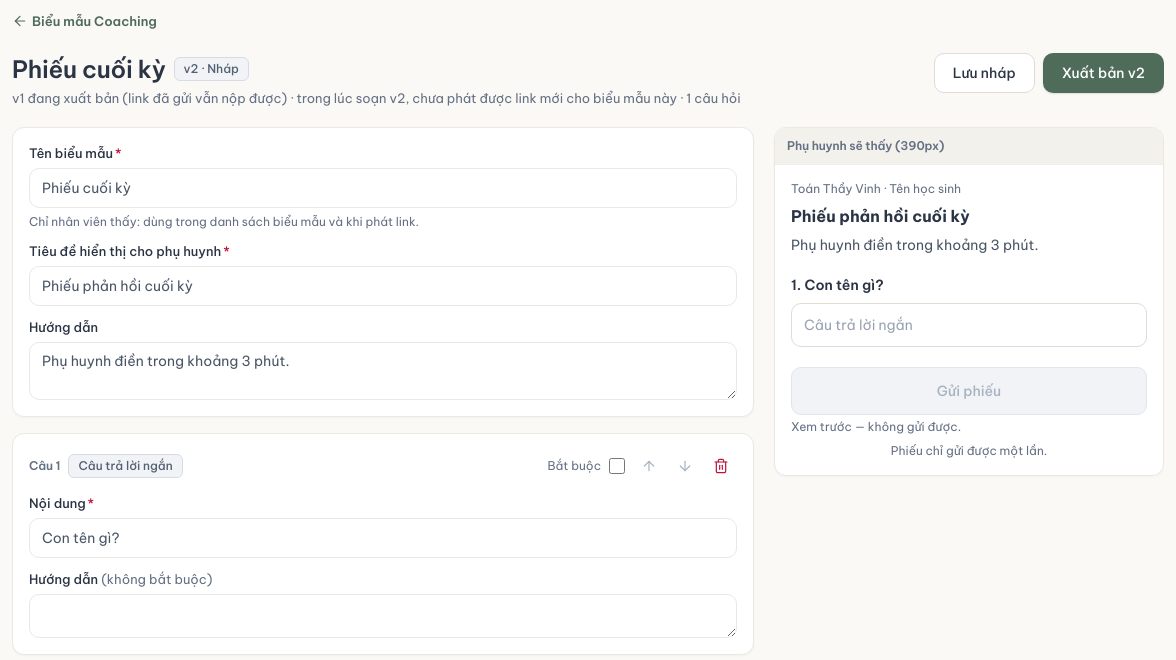
Test: CoachingFormBuilder checks before saving › names a blank form name, display title and question text; nothing is saved
This screenshot has width=1176, height=660.
Clear the field labelled "Tên biểu mẫu". click: (383, 188)
box: [29,168,737,208]
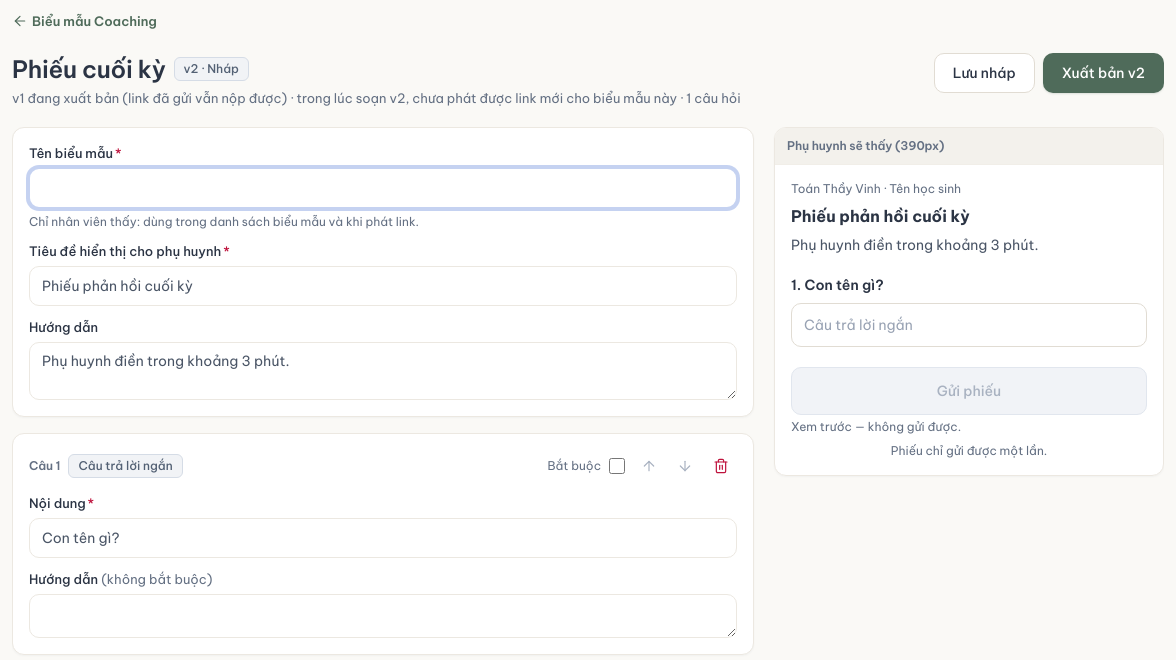
Clear the field labelled "Tiêu đề hiển thị cho phụ huynh". click: (383, 286)
box: [29,266,737,306]
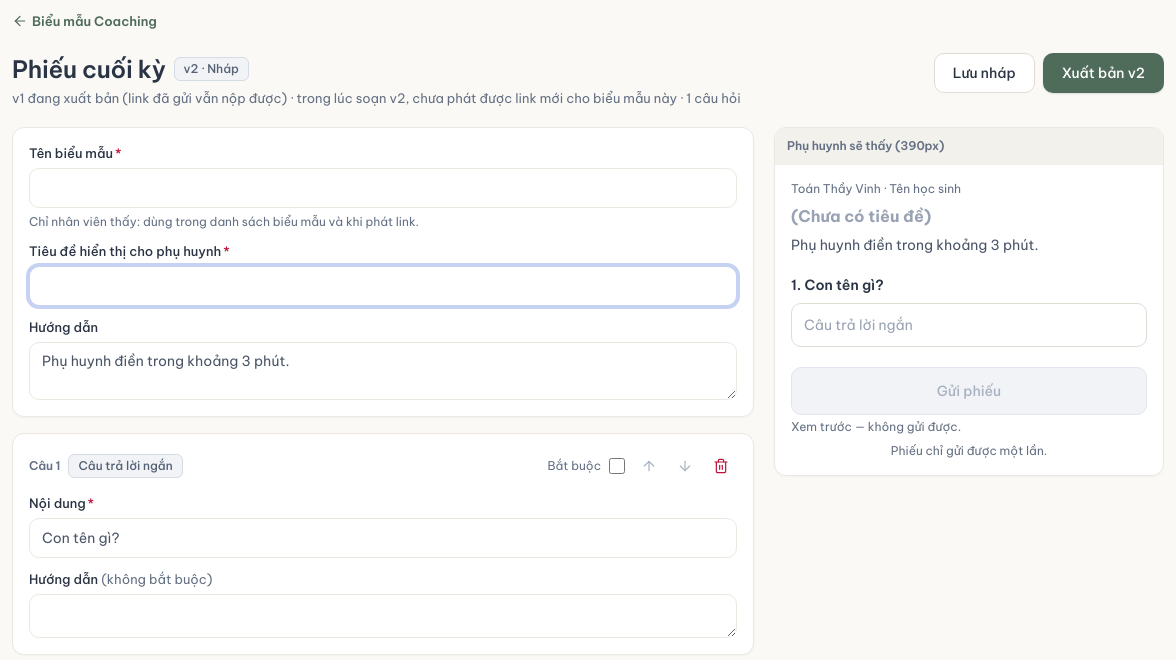
Clear the field labelled "Nội dung". click: (383, 538)
box: [29,518,737,558]
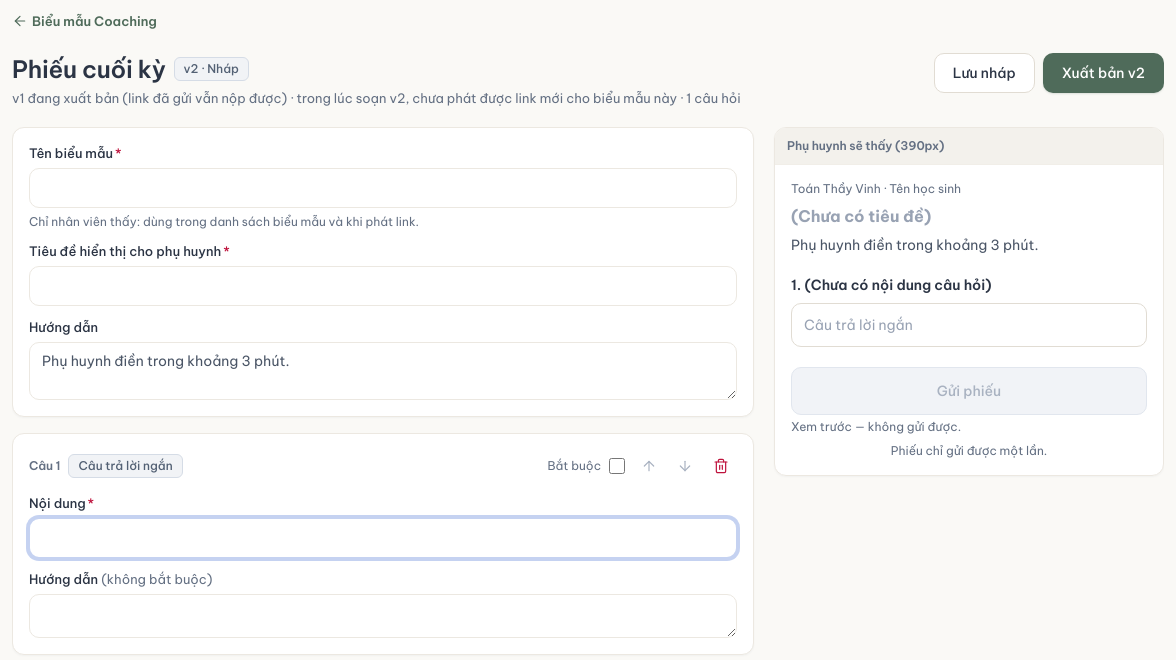
Click the button "Lưu nháp". click: click(984, 73)
box: [934,53,1035,93]
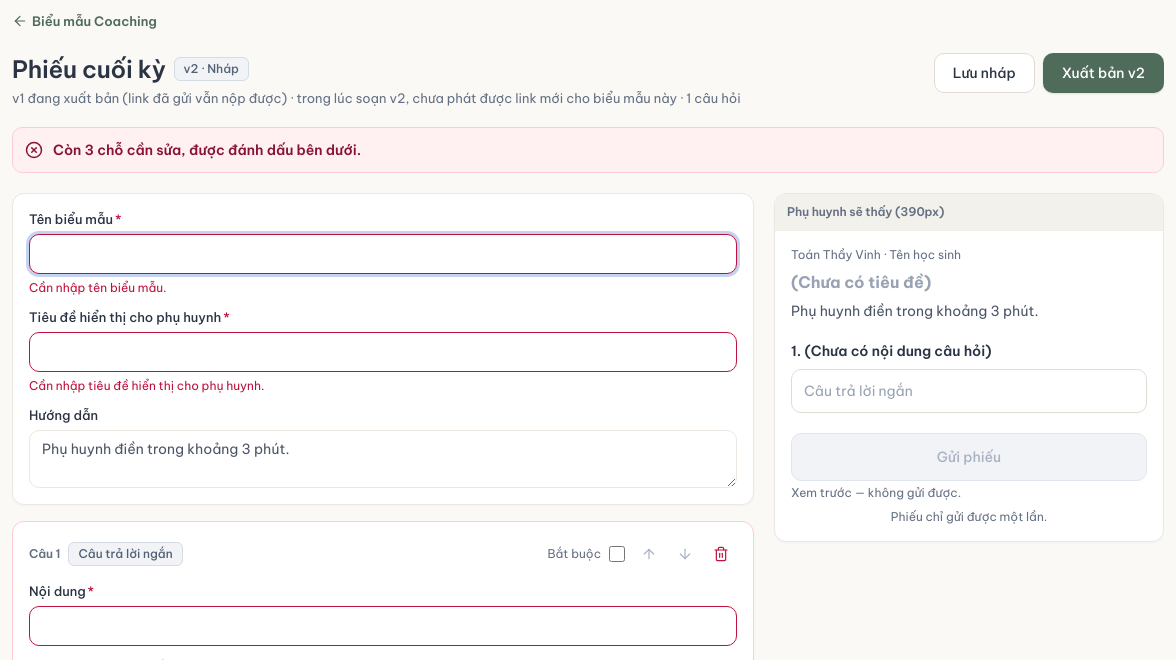
Expected: the text "(Chưa có tiêu đề)" is shown, [791,272,931,292]
Expected: the element "1. (Chưa có nội dung câu hỏi)" is shown, [791,341,1147,413]
Expected: the text "Còn 3 chỗ cần sửa, được đánh dấu bên dưới." is shown, [53,141,361,159]
